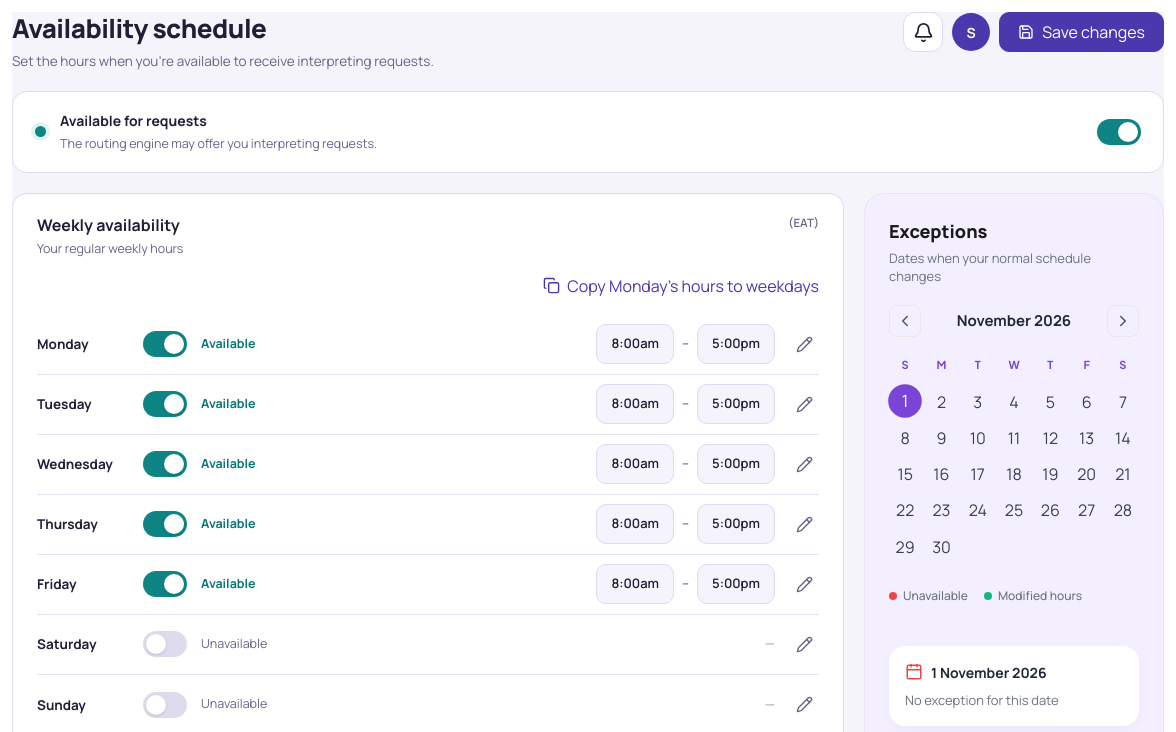
Test: AvailabilityPage date range on the calendar › sorts a range picked backwards and clears it
The image size is (1176, 732).
Check: the button named "24 November 2026" is shown, box [962, 494, 994, 527]
Click the button named "27 November 2026": click(1087, 510) [1070, 494, 1103, 527]
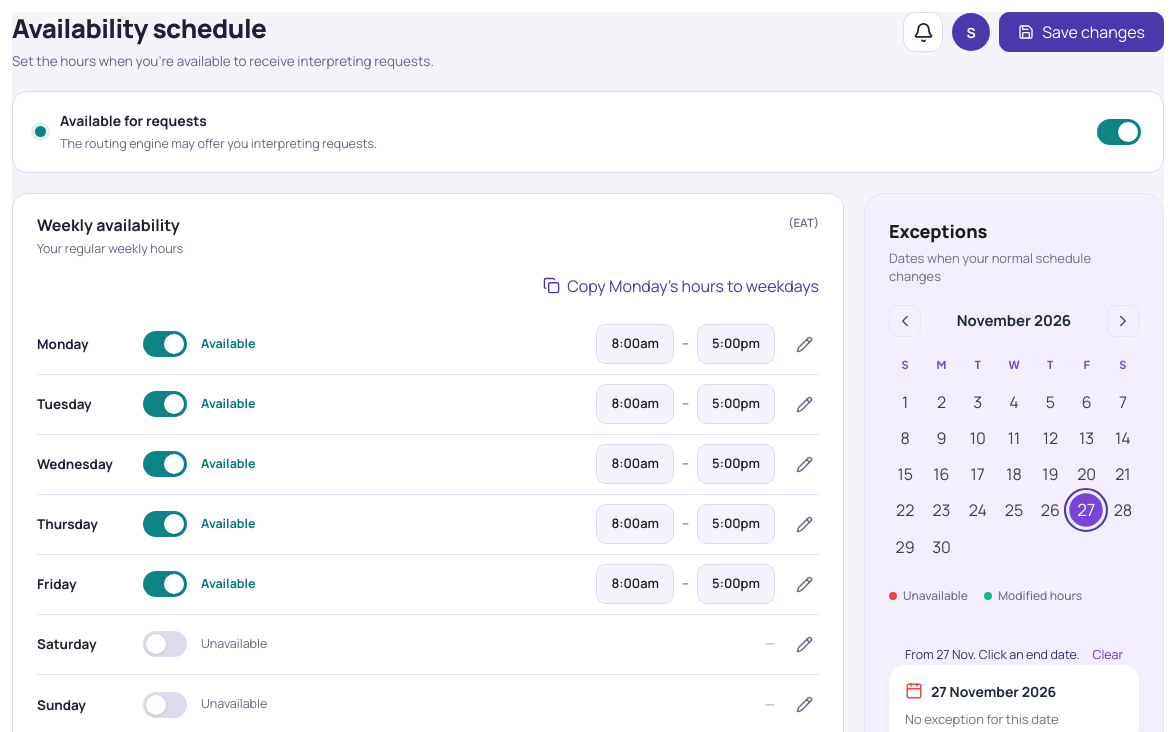
Click the button named "24 November 2026": click(978, 510) [962, 494, 994, 527]
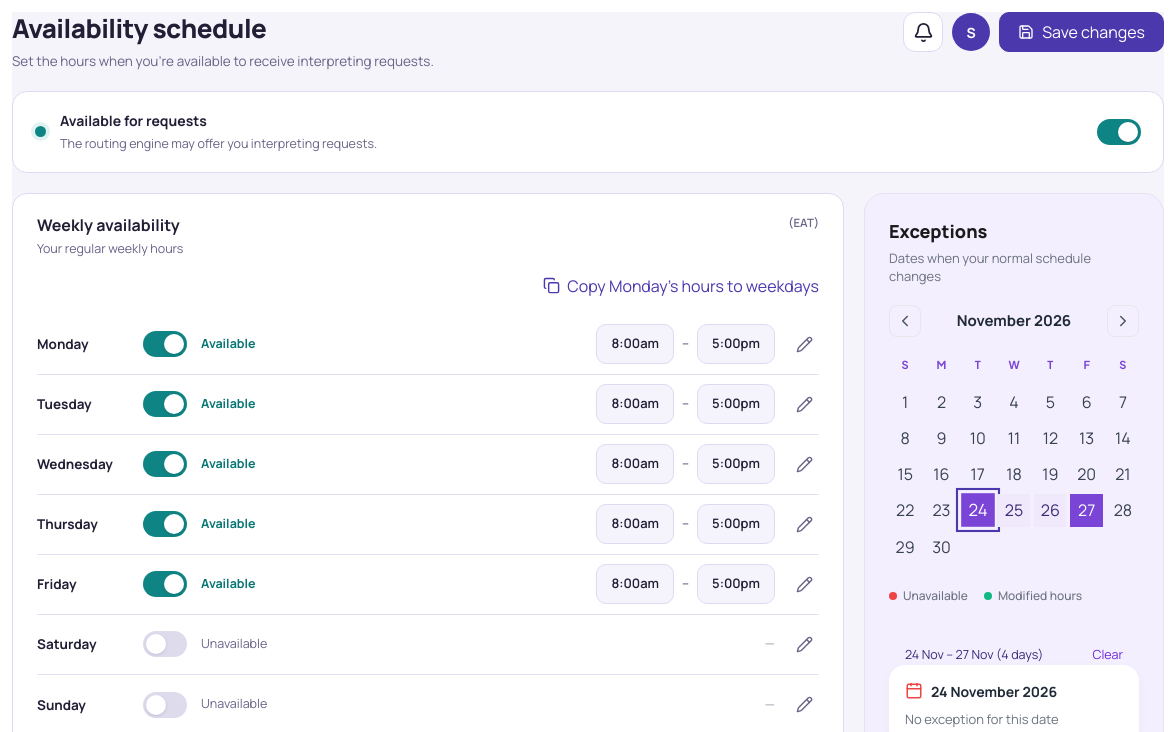
Check: the text "24 Nov – 27 Nov (4 days)" is shown, box [905, 646, 1043, 665]
Click the button "Clear": click(1108, 655) [1092, 646, 1123, 665]
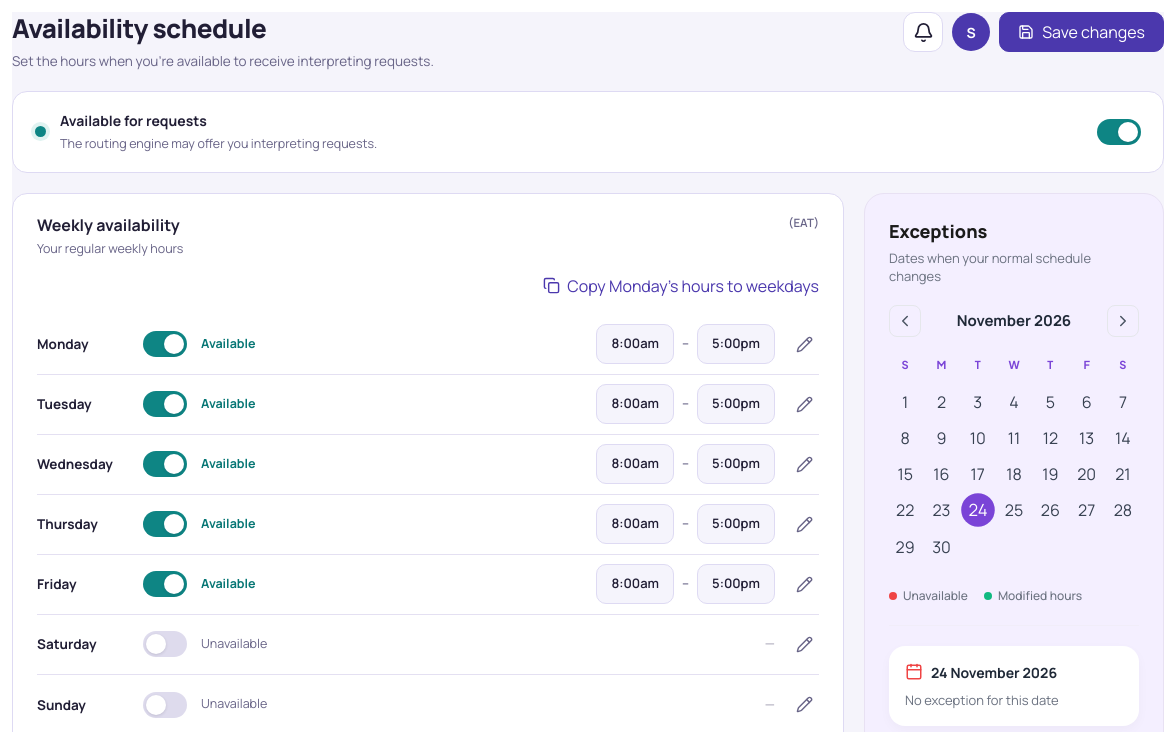
Check: the text "days)" is gone
